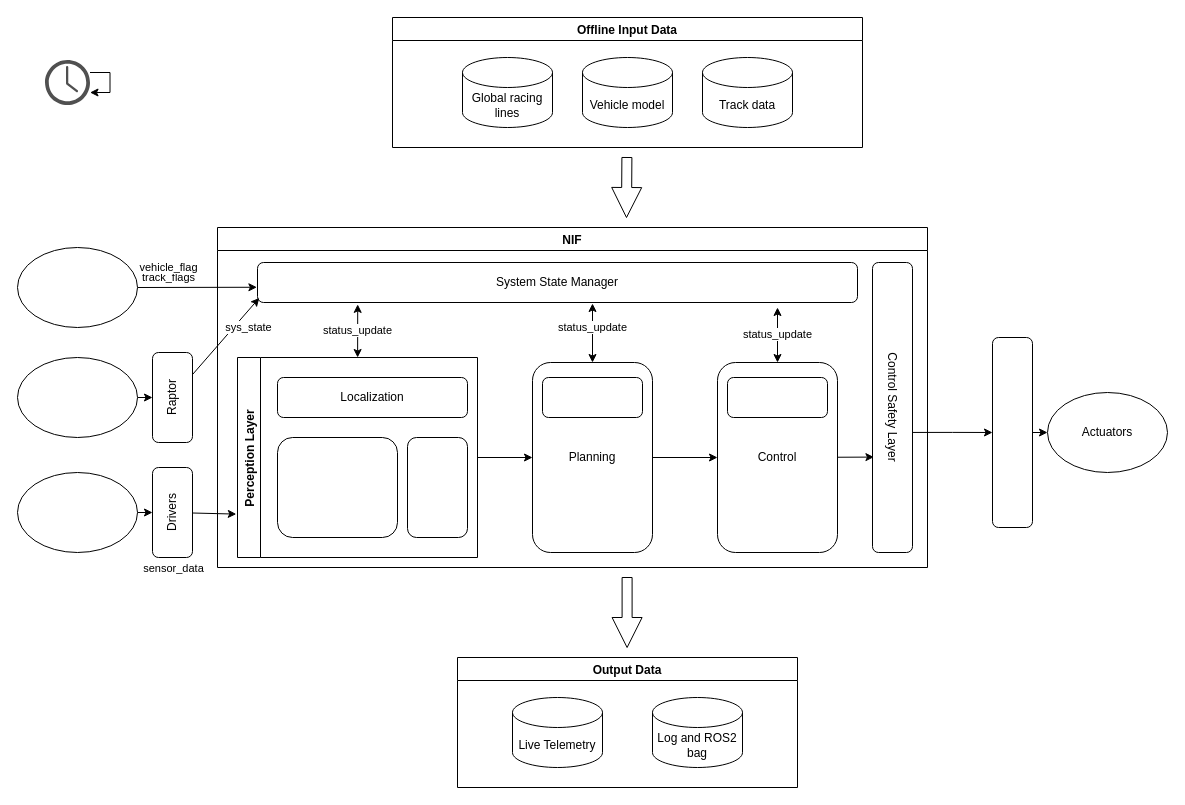
Image size: 1185x805. Some labels were removed from this diagram. Each missing label, with the centre of its shape:
Control Safety Policy: (777,397)
Environmental Perception: (337,487)
Global Timing: (67,82)
Low Level Controllers: (1012,432)
Planning Safety Policy: (592,397)
Prediction: (437,487)
Race Control: (77,287)
Sensors: (77,512)
Vehicle Electronics: (77,397)
